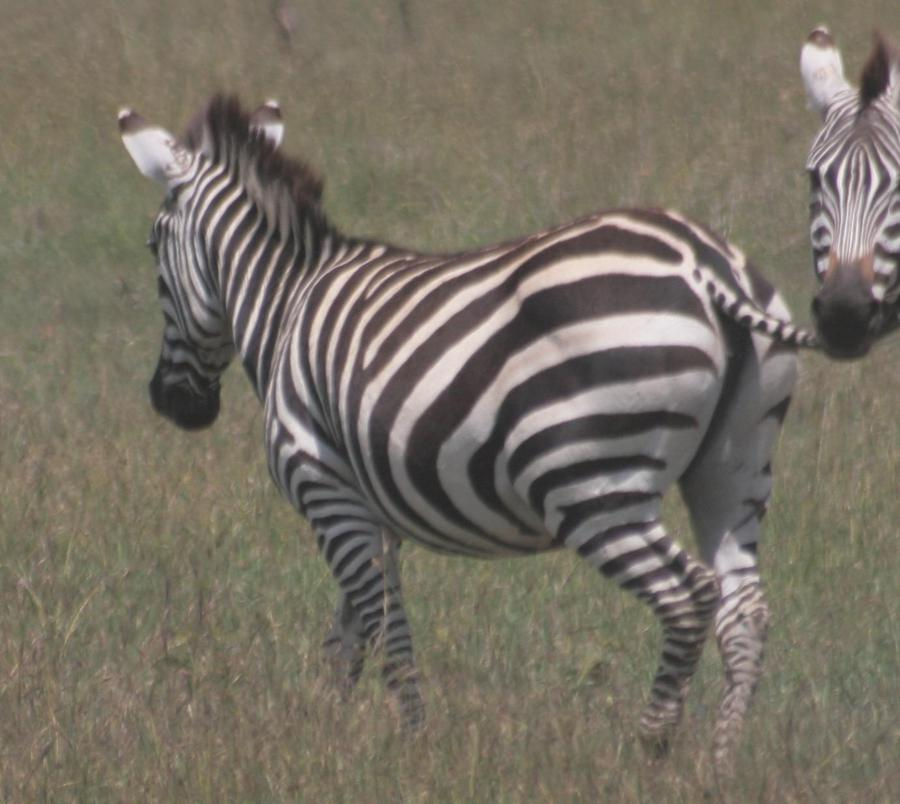zebra_plains: (240, 210, 712, 598)
